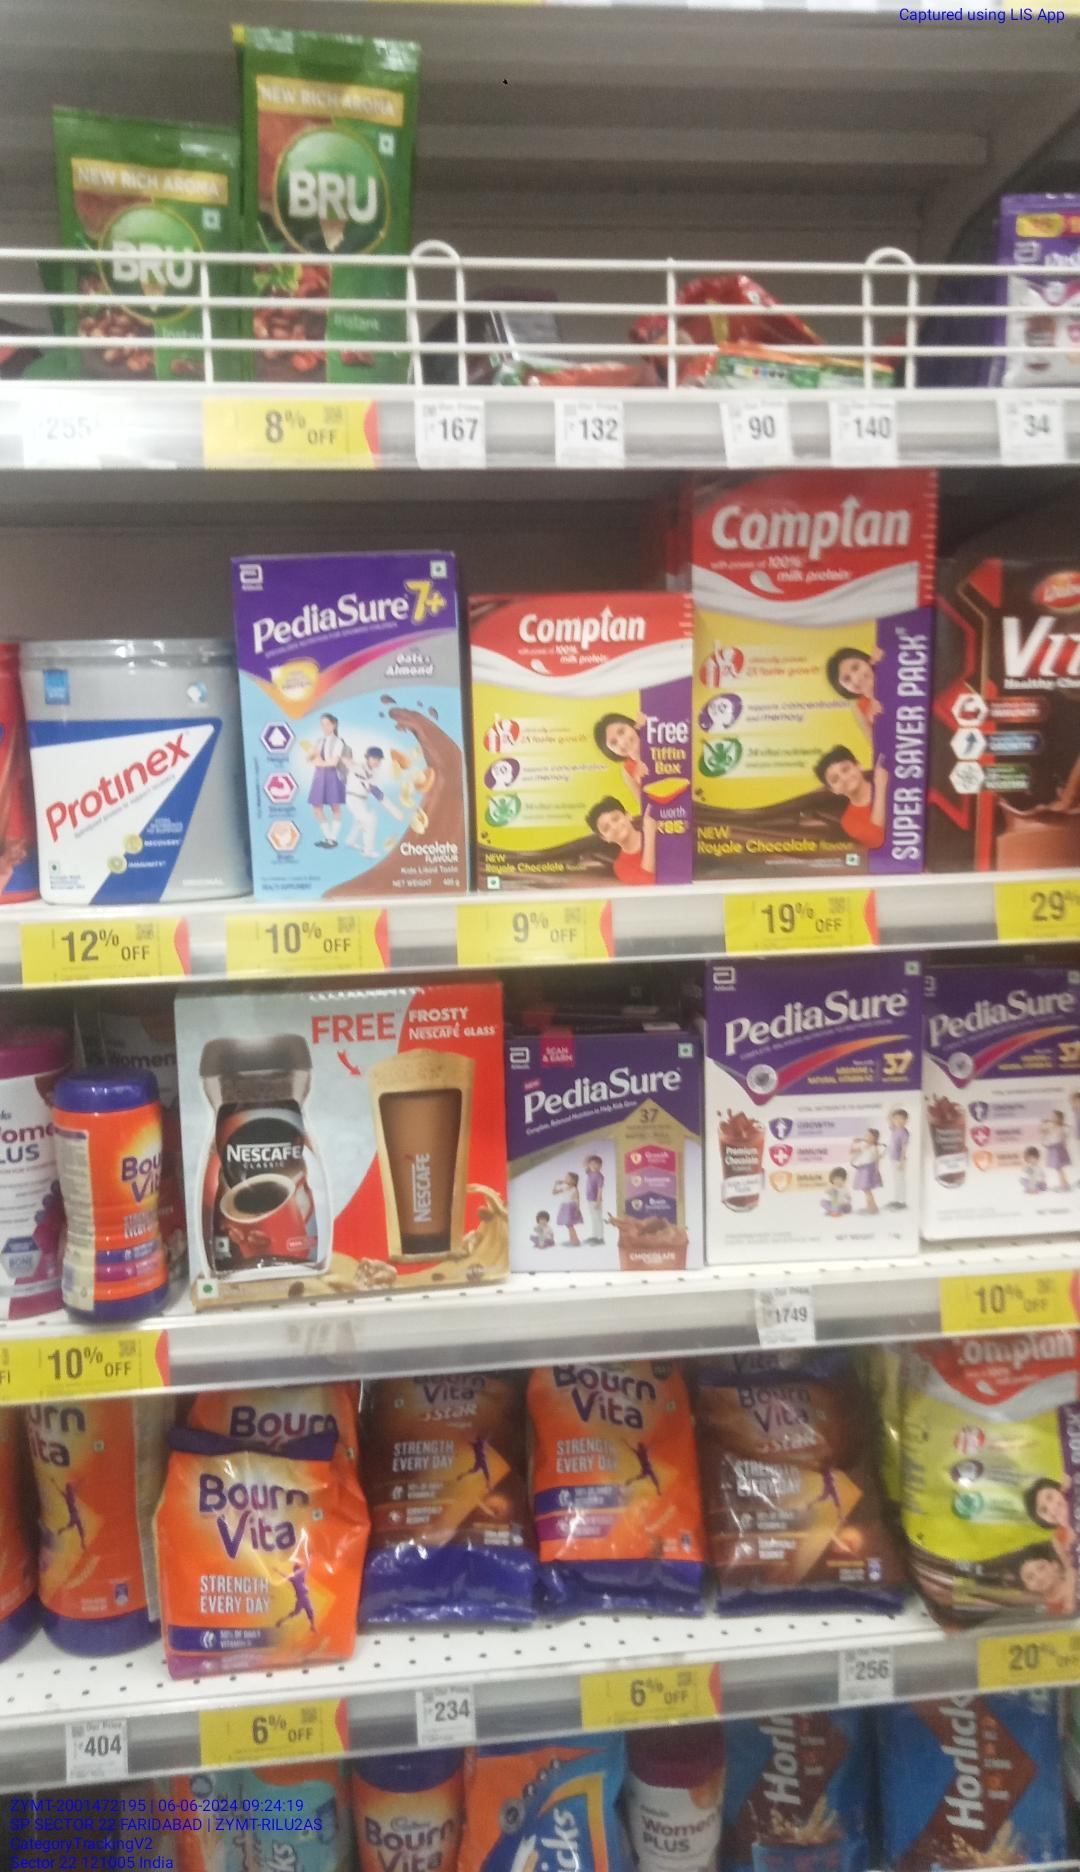BOURN_VITA_500_G_JAR: (90, 1071, 165, 1322)
BOURN_VITA_500_G_POUCH: (154, 1431, 360, 1679)
BOURN_VITA_750_G_POUCH: (537, 1362, 711, 1601)
BOURN_VITA_FIVE_STAR_MAGIC_750_G_POUCH: (716, 1359, 901, 1607), (366, 1376, 534, 1612)
COMPLAN_CHOCOLATE_1_KG_PACK: (701, 465, 928, 876)
COMPLAN_CHOCOLATE_500_GMS_PACK: (476, 590, 694, 895)
COMPLAN_RC_POUCH_700_GMS_12: (912, 1331, 1080, 1626)
PEDIASURE_7_PLUS_CHOCOLATE_400_G_PACK: (247, 559, 472, 899)
PEDIASURE_CHOCOLATE_500_G_PACK: (507, 1035, 703, 1273)
PROTINEX_ORIGINAL_400_G_JAR: (28, 639, 240, 904)
